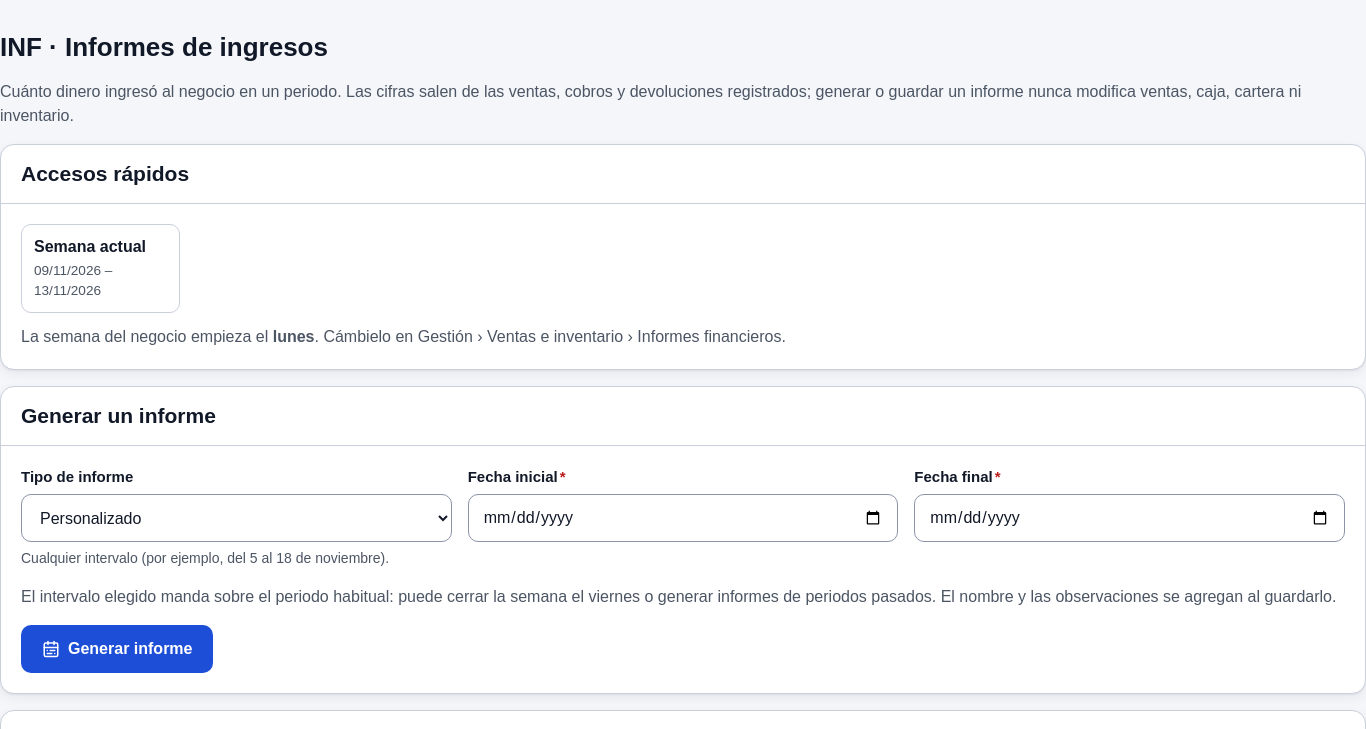
informes de ingresos › un acceso rápido genera la vista previa con cierre anticipado y totales reales
The image size is (1366, 729).
Click the button "Semana actual 09/11/2026 – 13/11/2026" at [100, 268], box x1=21 y1=224 x2=180 y2=313
(page scrolled)
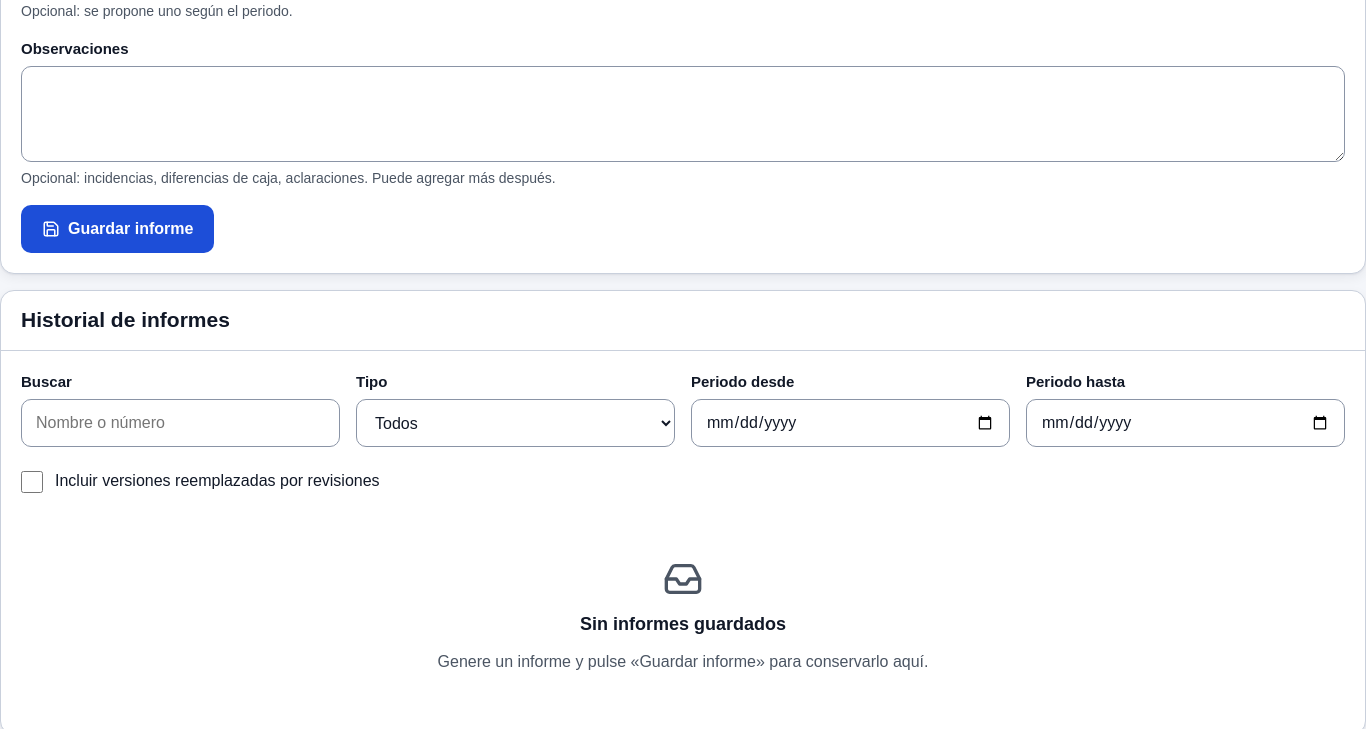
Expected: the text "Sin informes guardados" is shown, x1=580 y1=611 x2=786 y2=638
Expected: the button "Guardar informe" is shown, x1=21 y1=205 x2=214 y2=253
